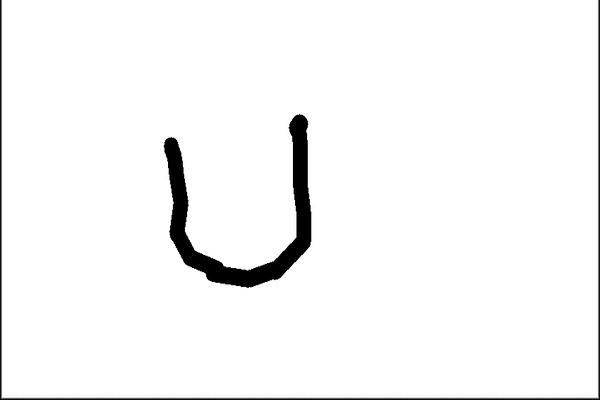U: (159, 99, 321, 294)
